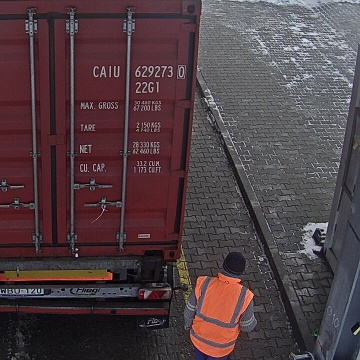serial_id: (92, 65, 184, 77)
